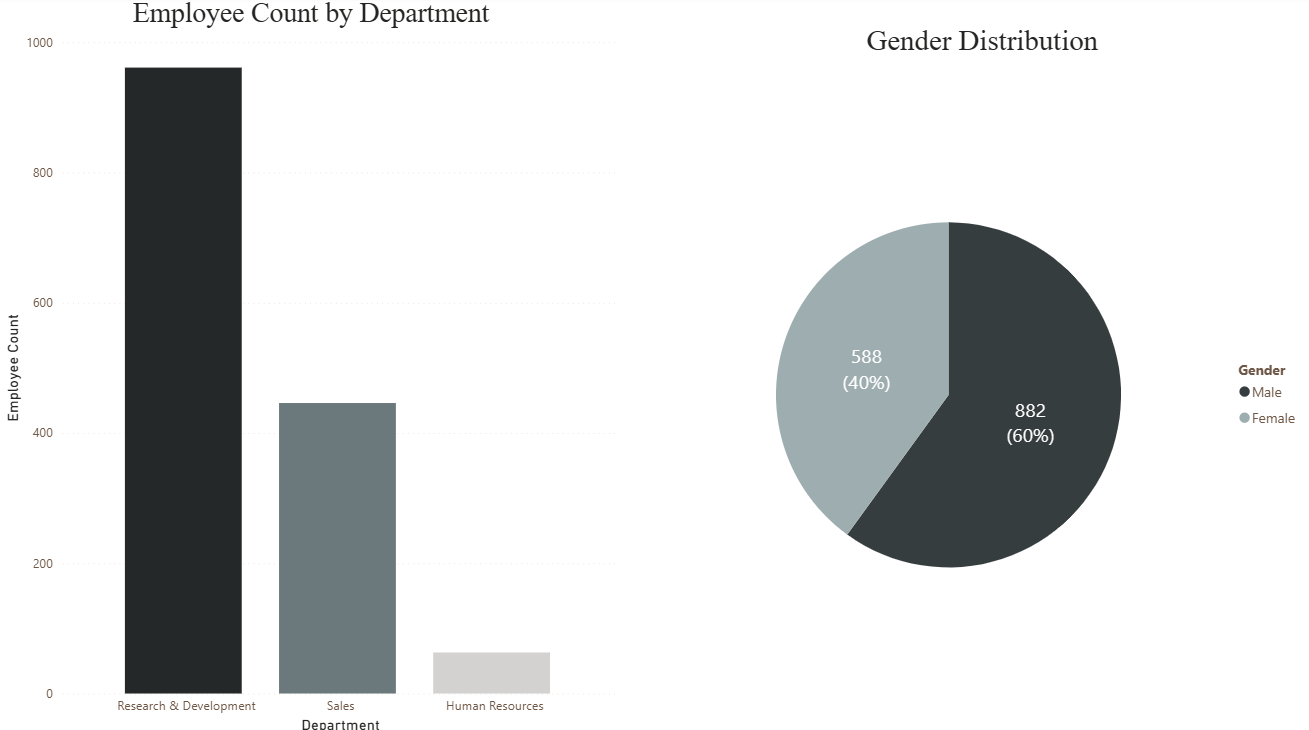

This screenshot's page, from the dashboard's own definition file:
{"tool":"powerbi","page":{"name":"Workforce Overview","canvas":[1280,720],"ordinal":0},"visuals":[{"type":"columnChart","fields":{"Category":["employee.Department"],"Y":["employee.Employee Count"]},"box":[0,0,606.1,719.4],"z":0},{"type":"pieChart","title":"Gender Distribution","fields":{"Category":["employee.Gender"],"Y":["employee.Employee Count"]},"box":[635,27.9,638.9,691.5],"z":1000}]}

Visuals, with their boxes in screenshot pixels (x1, y1, x2, y2), scaled from the page's 1280x720 canvas onto the 1309x730 screenshot:
columnChart - employee.Department x employee.Employee Count: rect(0, 0, 620, 729)
"Gender Distribution" pieChart: rect(649, 28, 1303, 729)
